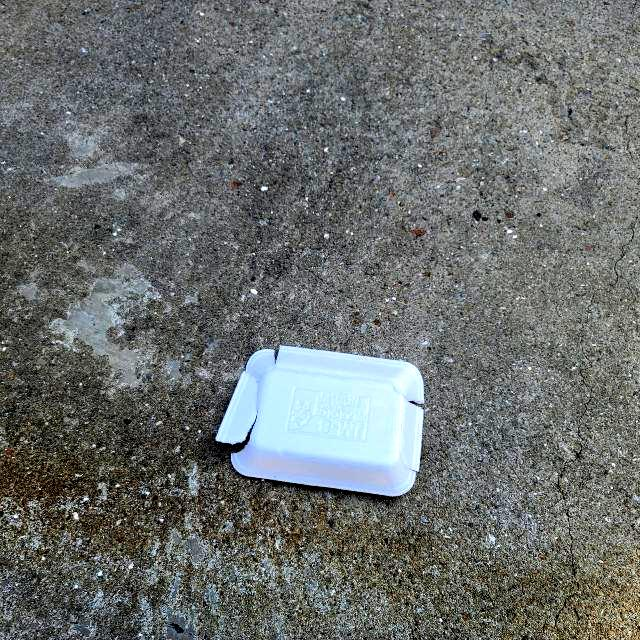Styrofoam: (216, 345, 426, 497), (216, 346, 425, 497)
